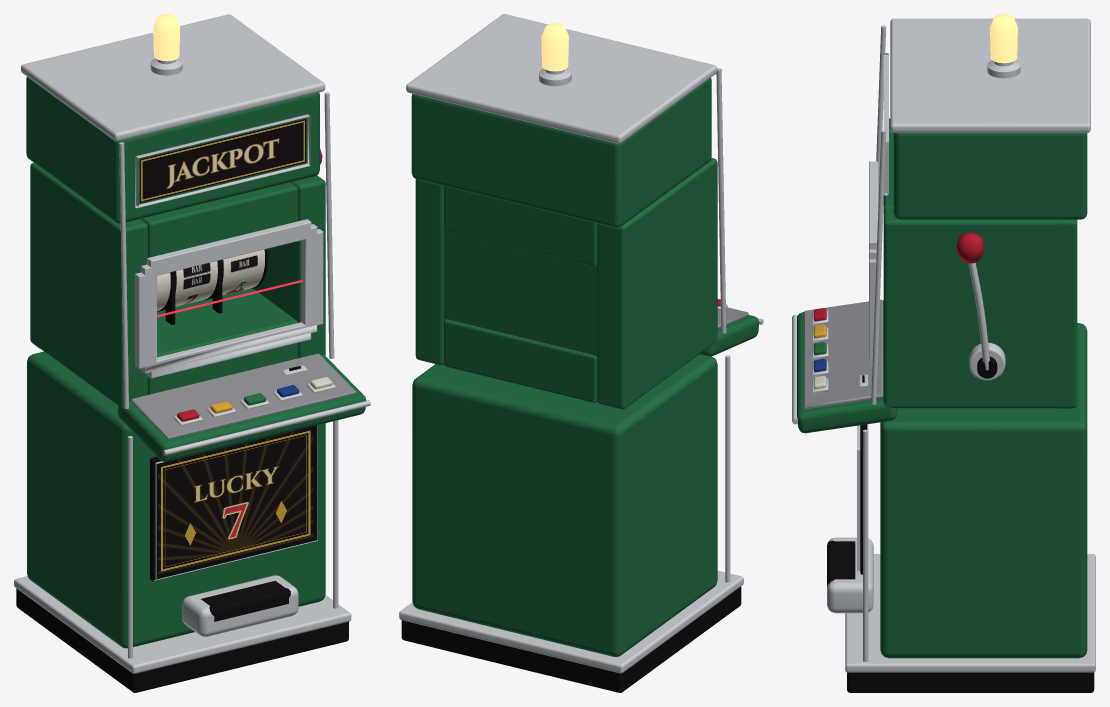
Rendered from slot.glb.
3 views of the same model, side by side, from view 1: azimuth 30°, elevation 25°; view 2: azimuth 150°, elevation 25°; view 3: azimuth 270°, elevation 25° (orthographic). The views are drawn at different scales.
Parts seen in each view (by area): view 1: slot_paint, slot_chrome, slot_belly, slot_black, slot_steel, slot_topglass, slot_reel, slot_lamp; view 2: slot_paint, slot_chrome, slot_black, slot_lamp; view 3: slot_paint, slot_chrome, slot_black, slot_steel, slot_lamp, slot_knob.
Part boxes in pixels (x1,y1,x2,y2): slot_paint: (26, 76, 366, 648); slot_chrome: (14, 14, 370, 673); slot_belly: (158, 427, 313, 574); slot_black: (16, 249, 348, 692); slot_steel: (131, 353, 356, 439); slot_topglass: (140, 119, 306, 202); slot_reel: (157, 249, 264, 310); slot_lamp: (153, 14, 180, 61); slot_paint: (411, 78, 758, 656); slot_chrome: (399, 14, 763, 673); slot_black: (401, 586, 741, 692); slot_lamp: (541, 23, 568, 71); slot_paint: (797, 118, 1087, 658); slot_chrome: (792, 18, 1095, 672); slot_black: (827, 356, 1094, 692); slot_steel: (804, 299, 883, 408); slot_lamp: (990, 14, 1017, 63); slot_knob: (956, 232, 984, 263).
Size of the model in its own units: 0.892 by 2.05 by 0.909.
16 materials, 3 textured.
